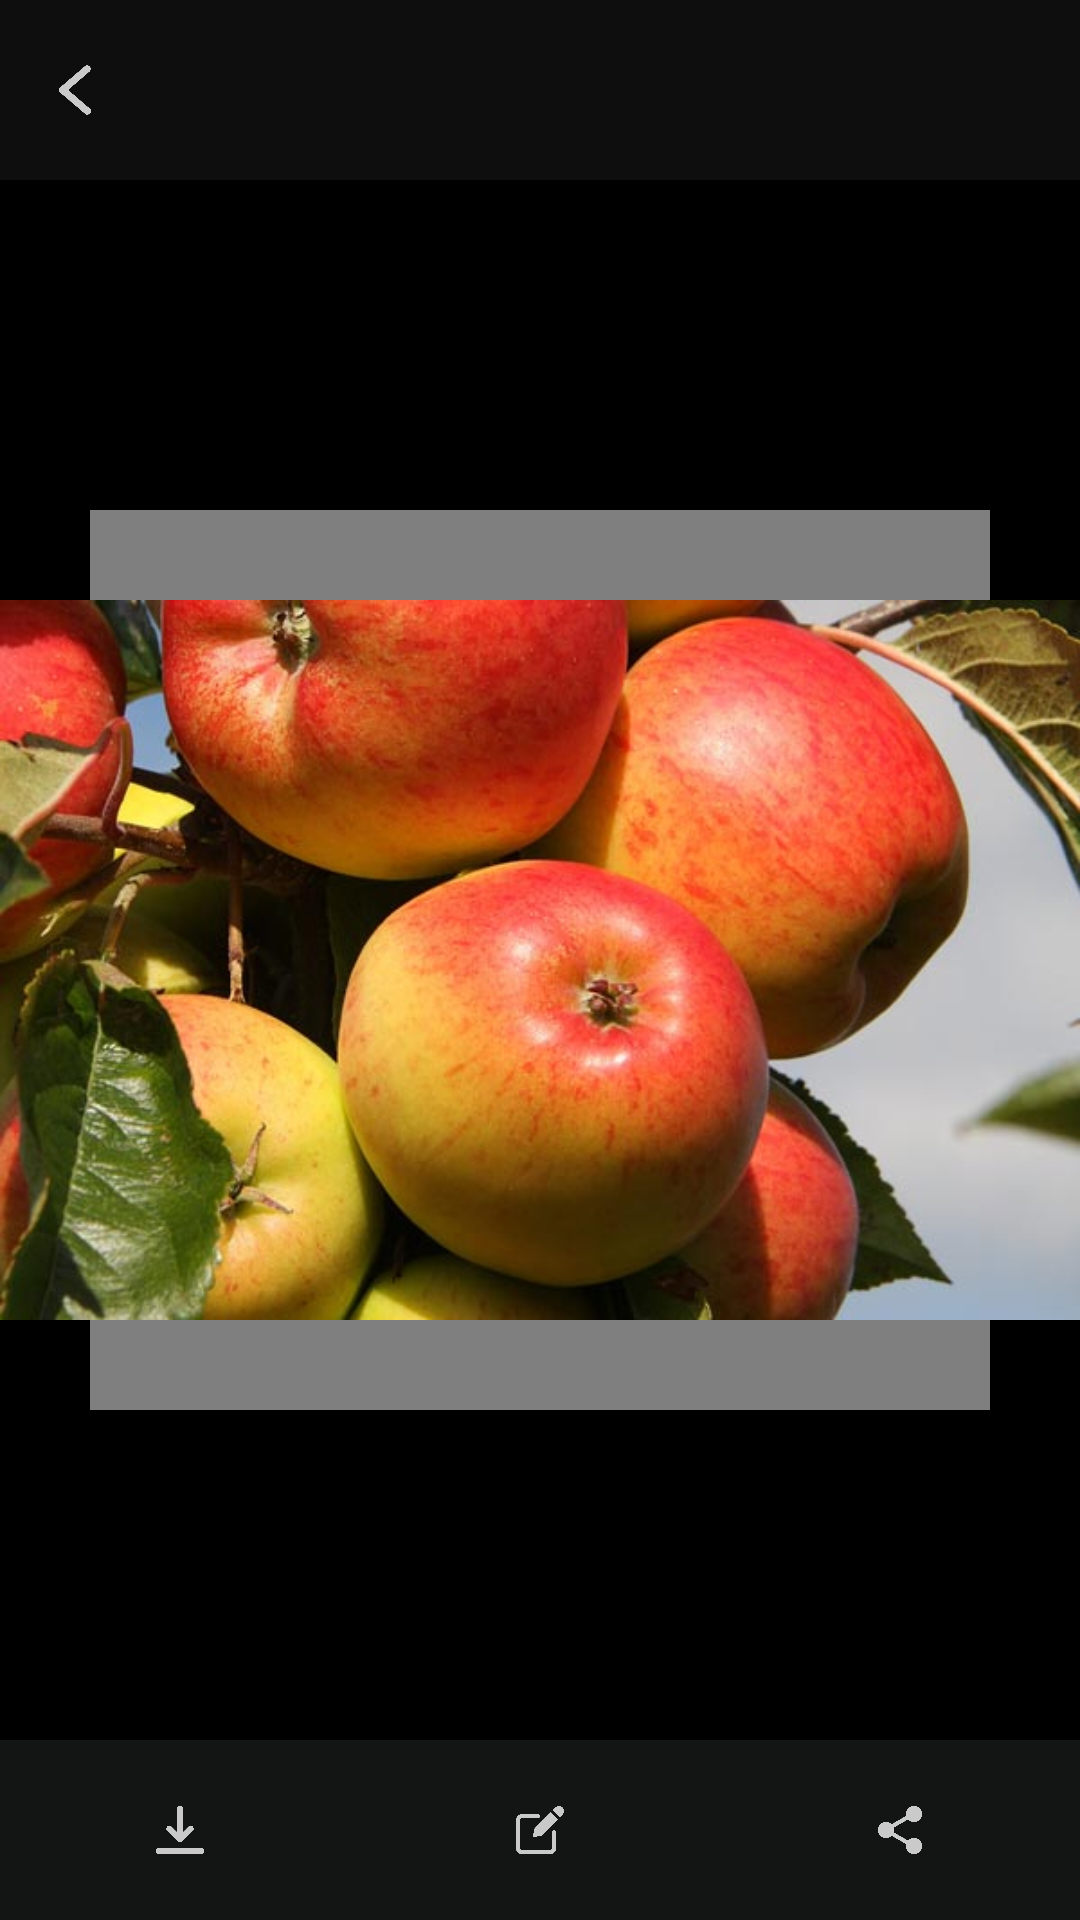

Icon bounding boxes for this 1080*1920 phone screenshot, format bbox=(x1, y1, x2, y2):
download: bbox=(156, 1806, 204, 1854)
edit: bbox=(516, 1806, 564, 1854)
sharegrey: bbox=(878, 1806, 922, 1854)
